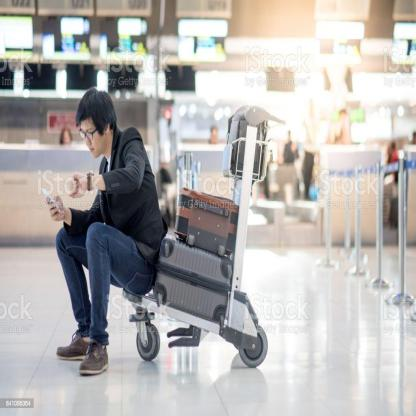airport-trolley: (120, 104, 287, 369)
